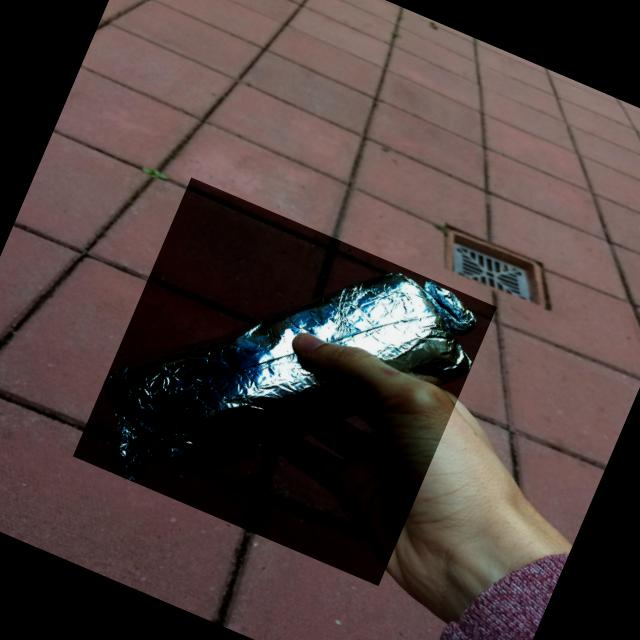Aluminium foil: (102, 273, 475, 480)
